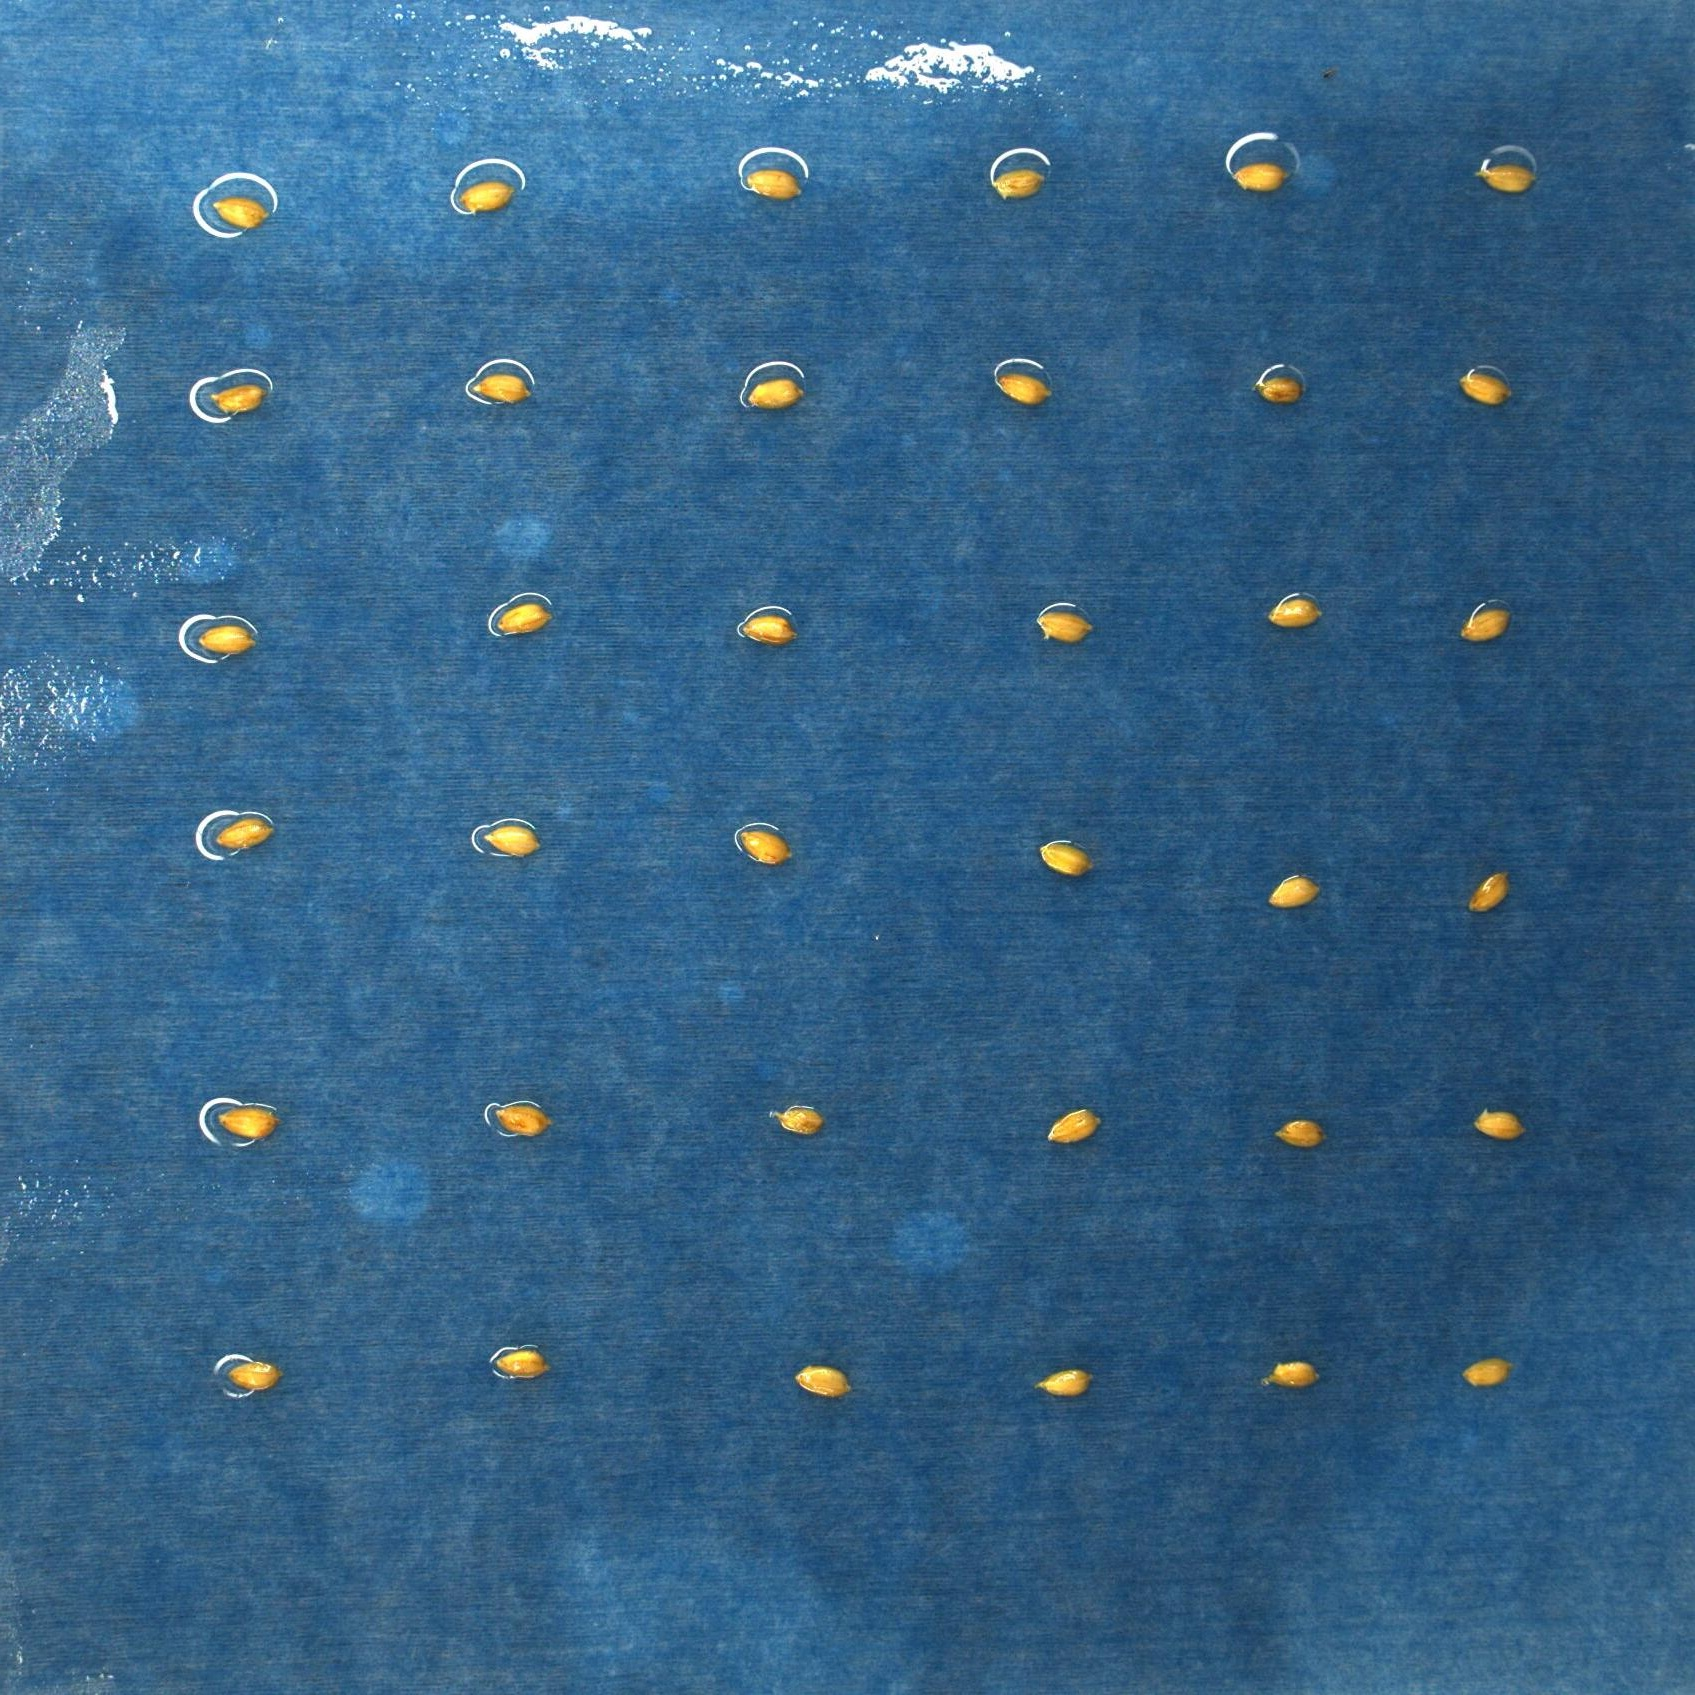not sprout: (453, 174, 517, 219), (213, 1097, 282, 1136), (208, 192, 275, 231), (494, 1094, 551, 1139), (737, 820, 789, 869), (1034, 834, 1091, 875), (737, 608, 799, 646), (1468, 1102, 1530, 1139), (1045, 1107, 1104, 1146), (1268, 588, 1322, 630), (795, 1360, 858, 1395), (1481, 161, 1541, 199), (1032, 613, 1099, 646), (484, 818, 542, 855), (744, 168, 807, 200), (1260, 1357, 1324, 1389), (1458, 366, 1510, 405), (1468, 868, 1513, 913), (494, 1343, 545, 1381), (1267, 872, 1319, 910), (1231, 161, 1288, 196), (199, 622, 256, 657), (993, 165, 1048, 200), (210, 383, 264, 419), (993, 369, 1052, 402), (1273, 1111, 1324, 1149), (216, 813, 269, 849), (469, 369, 529, 400), (1032, 1364, 1093, 1395), (768, 1101, 826, 1133), (498, 601, 548, 638), (227, 1357, 279, 1391), (1456, 607, 1510, 640), (1461, 1357, 1513, 1386), (1259, 376, 1307, 407), (748, 377, 801, 405)
